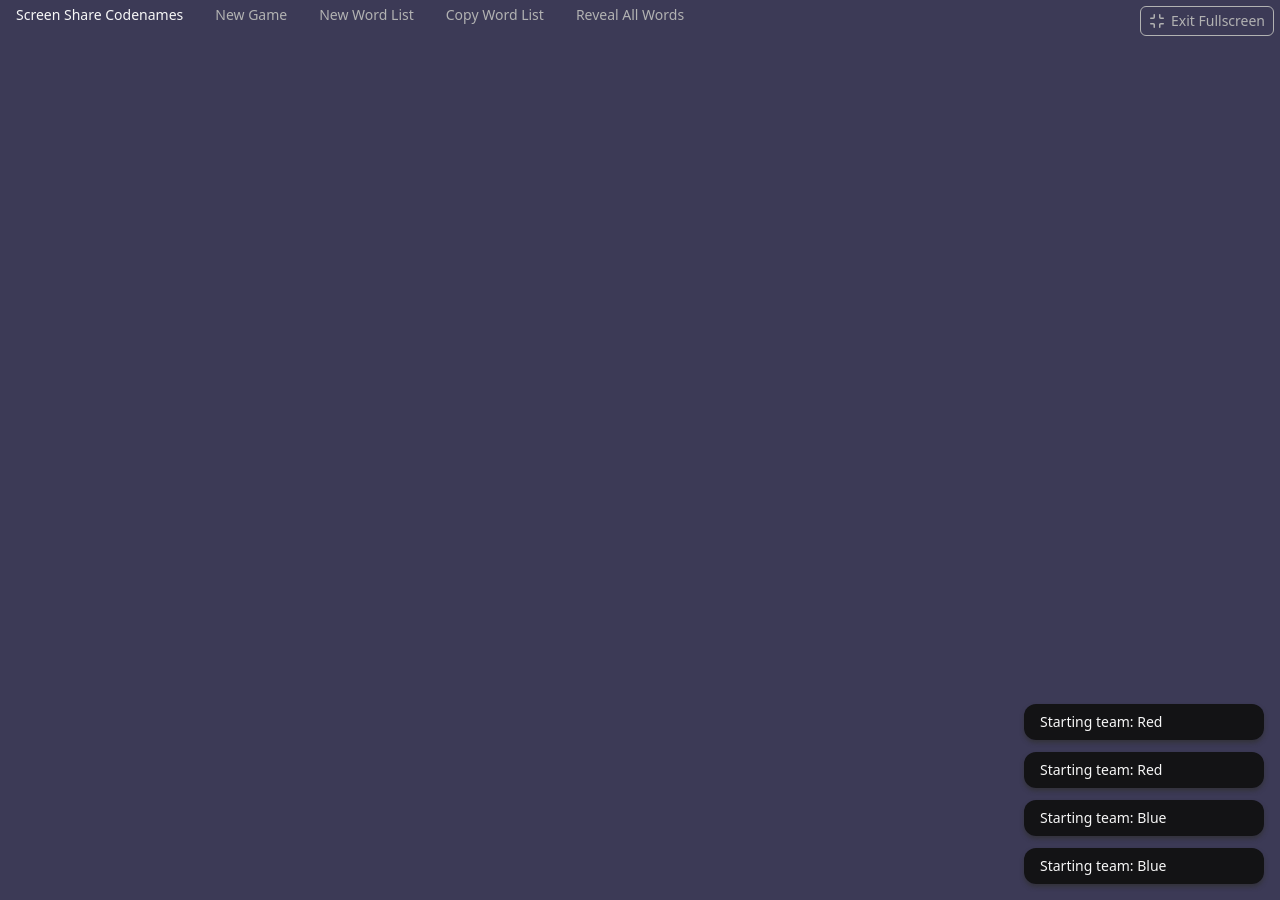
Test: clicking new word list shows new word list dialog
What coordinates should you click on to do the following:
click the button "New Word List"
I would click on:
 (366, 15)
Its box is [303, 0, 430, 30].
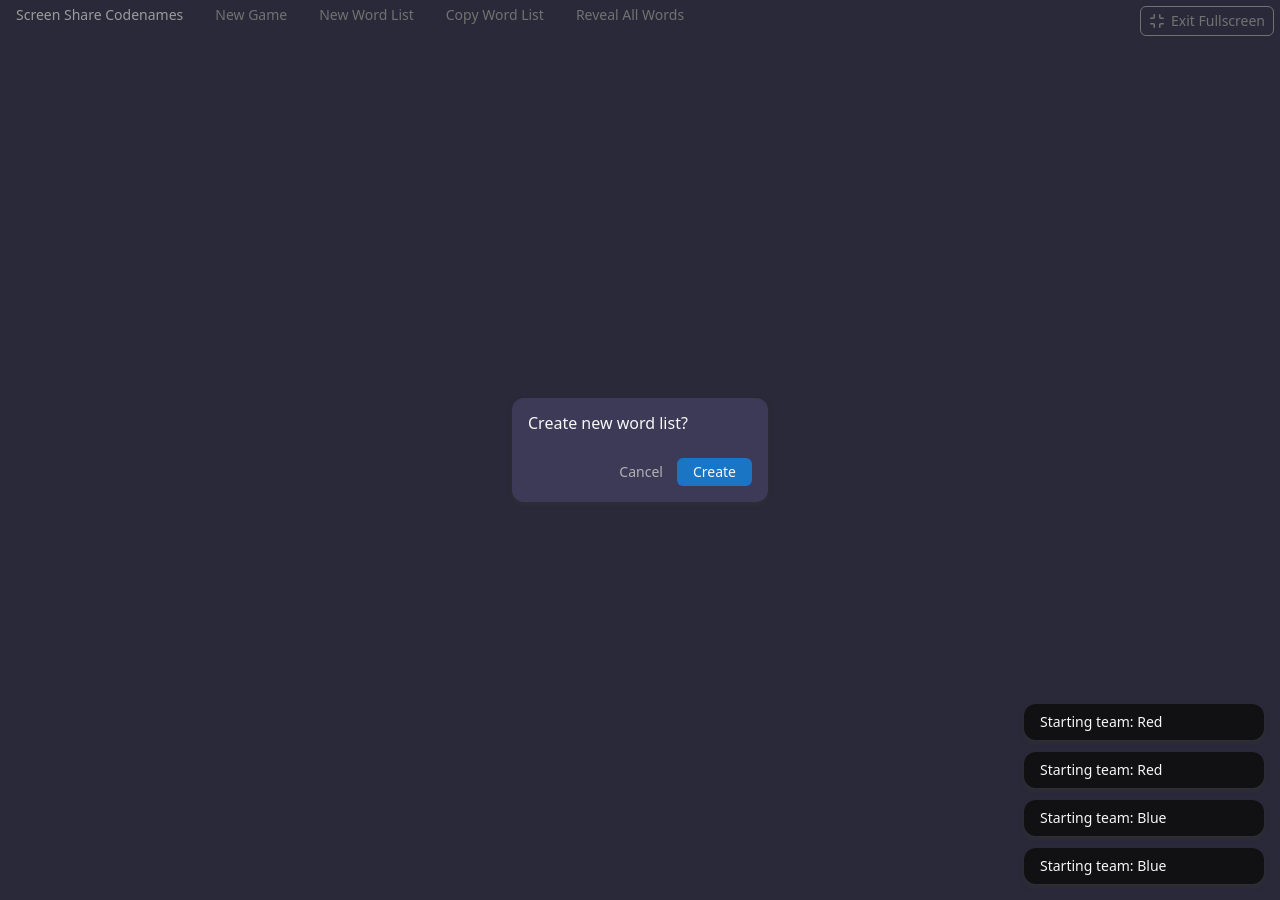
Expected: the dialog shows "Create new word list?", [528, 412, 688, 434]
